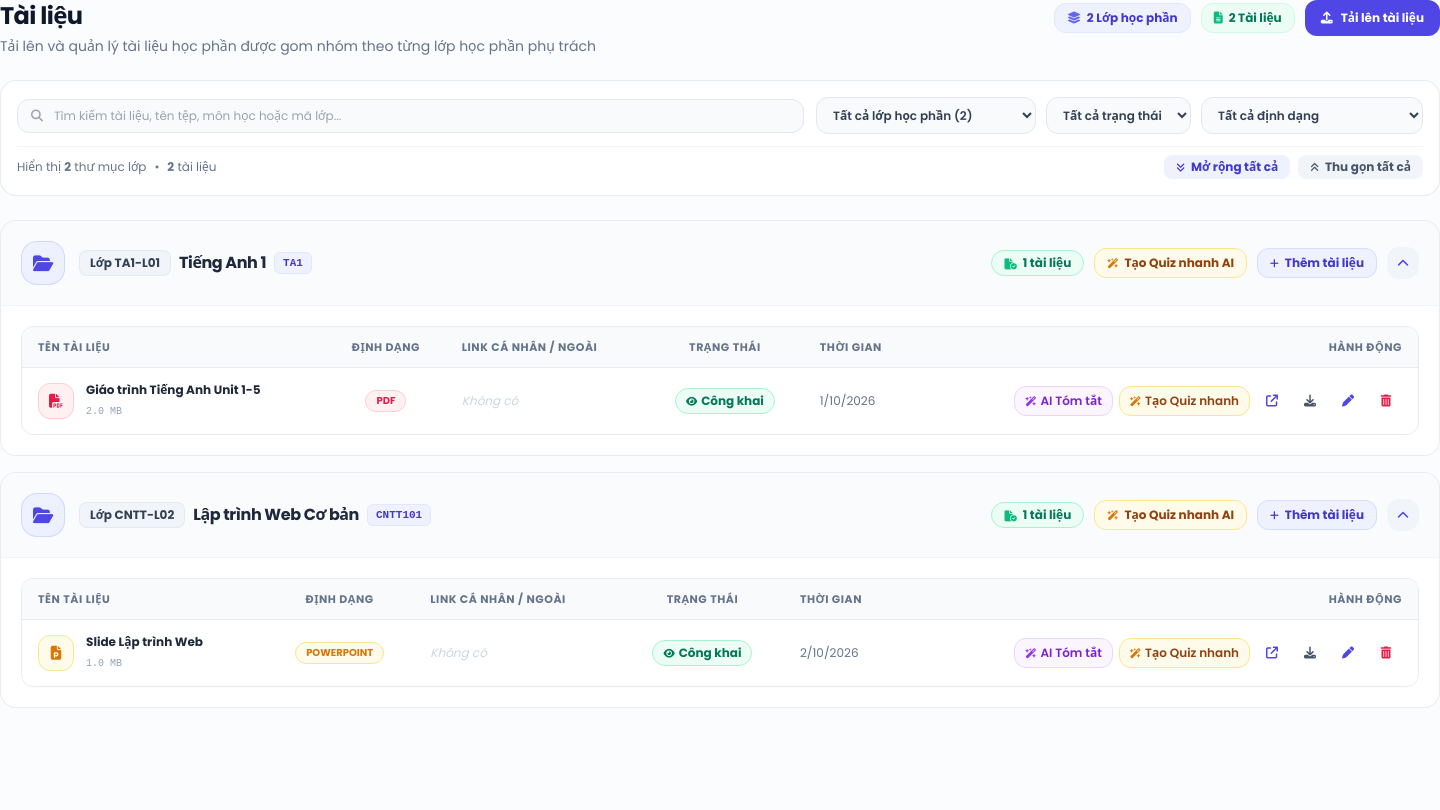
Test: TeacherDocumentList (Grouped by Class) › auto-fills and locks course and class context when clicking + Thêm tài liệu on a class card
The width and height of the screenshot is (1440, 810).
Click the button titled "Tải lên tài liệu cho học phần này" in the row of "Tiếng Anh 1".
click(1317, 263)  # box [1257,248,1377,278]
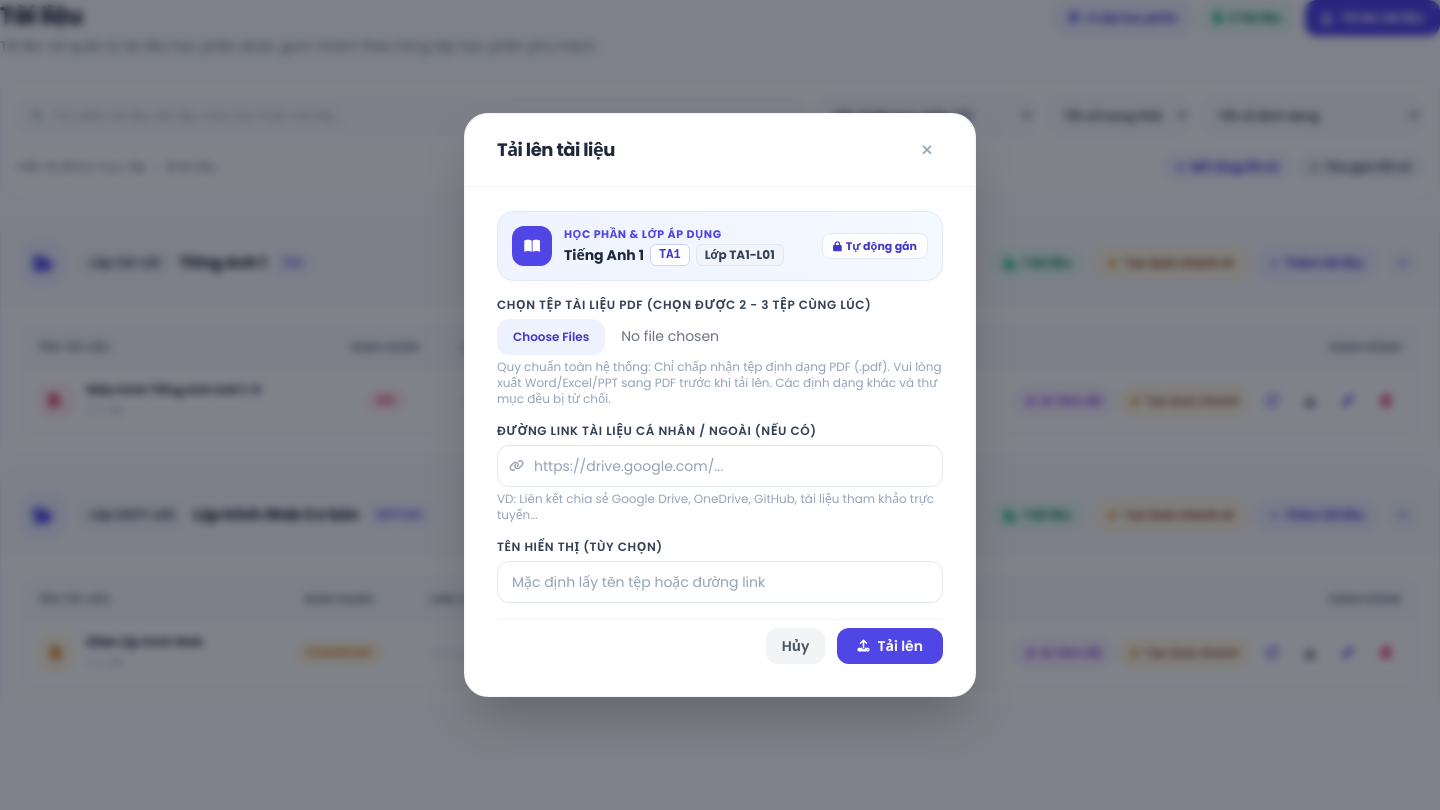
Result: the text "Tự động gán" is shown at [846,238,917,254]
Result: the text "Học phần & Lớp áp dụng" is shown at [564,226,722,242]
